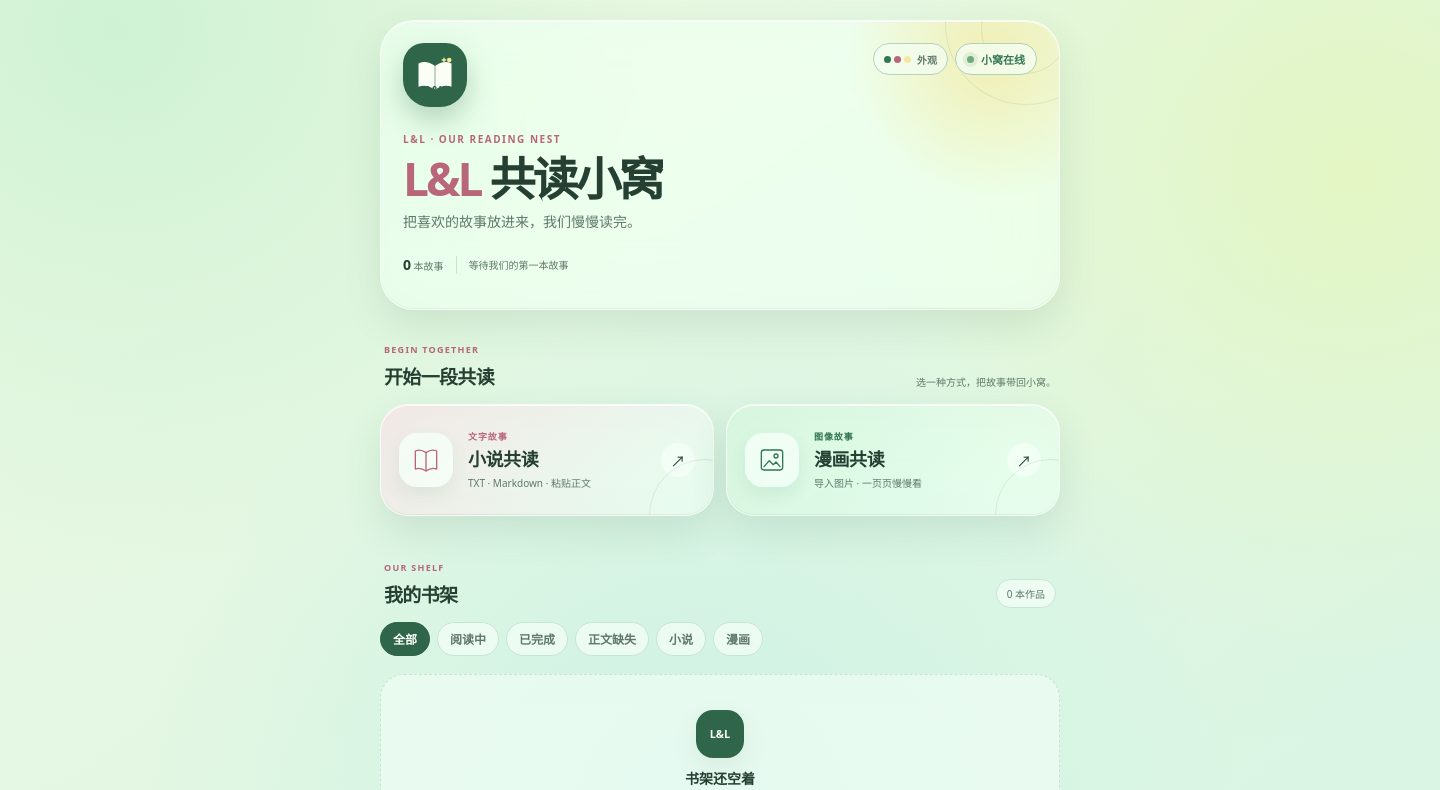
Test: App › opens the novel setup without exposing model API settings
What coordinates should you click on to do the following:
click the button "文字故事 小说共读 TXT · Markdown · 粘贴正文 ↗"
I would click on:
 (426, 460)
Its box is [380, 404, 714, 516].
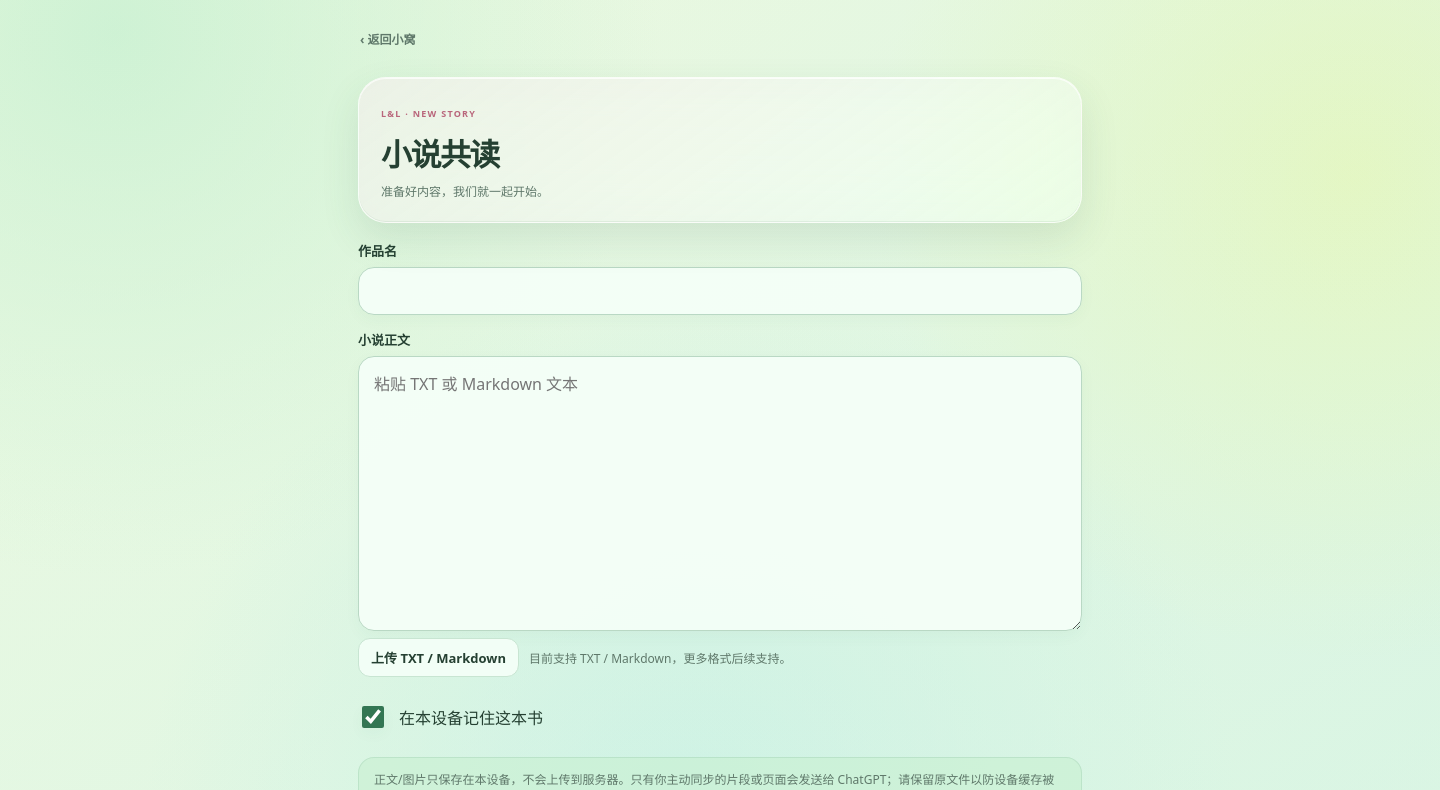
Expected: the field labelled "作品名" is shown, [358, 267, 1082, 315]
